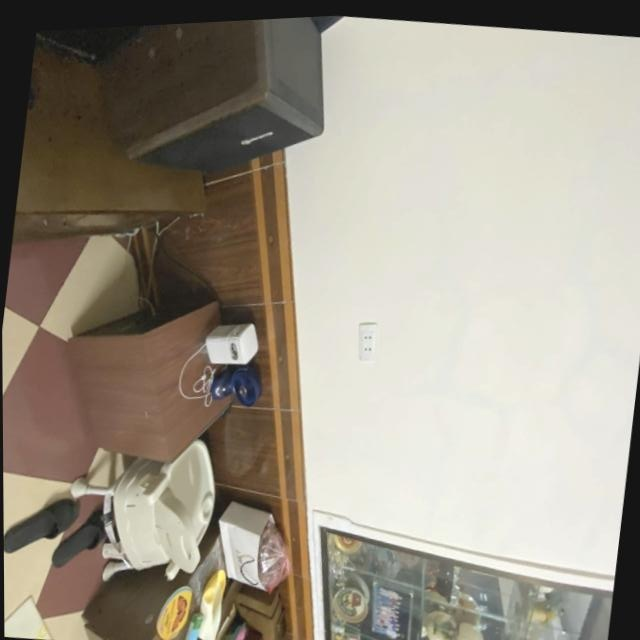outlet: (356, 320, 381, 363)
